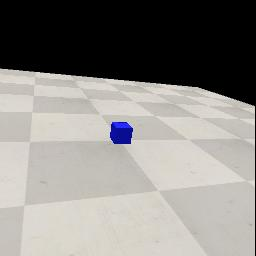box: (110, 122, 133, 144)
